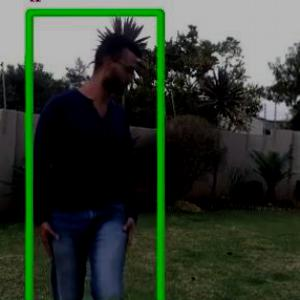follow: (32, 34, 142, 299)
